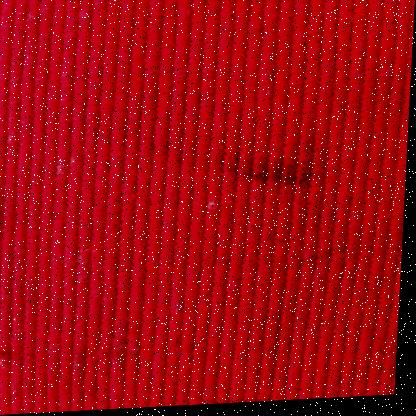spot: (227, 135, 337, 198)
